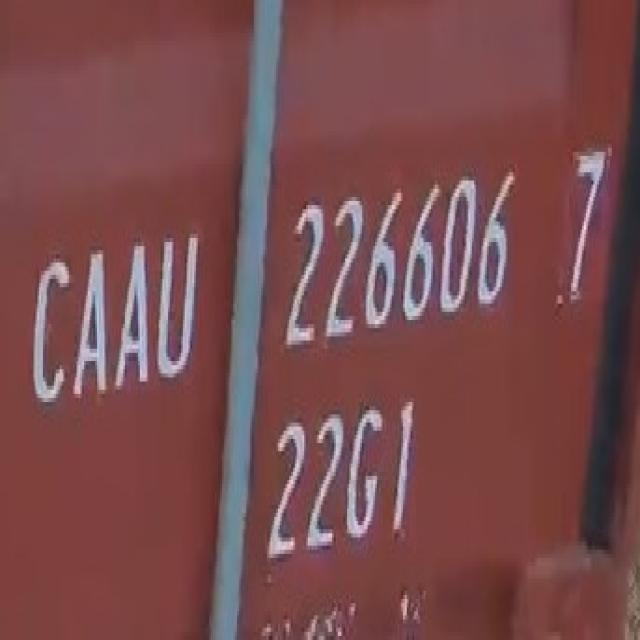dv: (546, 144, 613, 328)
owner: (24, 194, 209, 421)
serial: (266, 147, 524, 359)
size: (262, 399, 422, 570)
